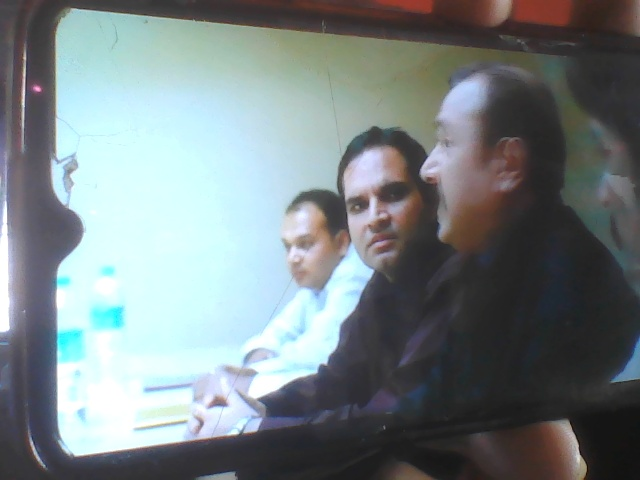fake: (339, 88, 478, 285)
